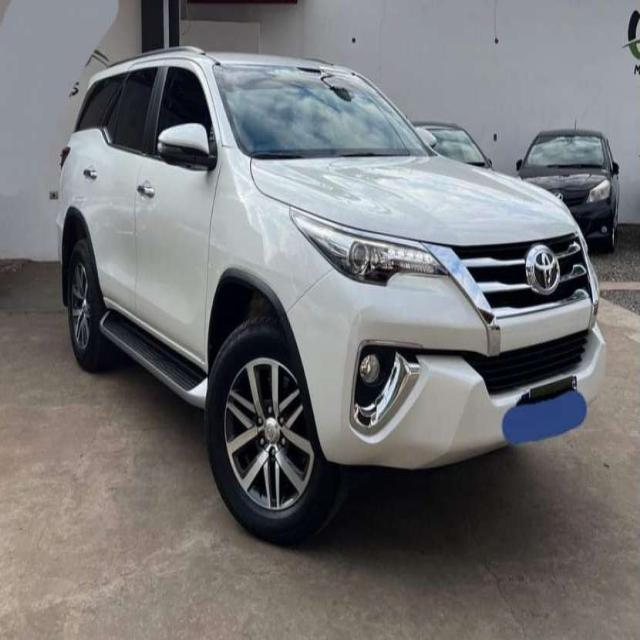light_vehicle: (55, 45, 607, 547)
